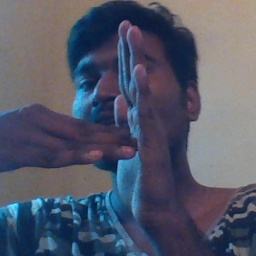Z: (45, 18, 174, 219)
